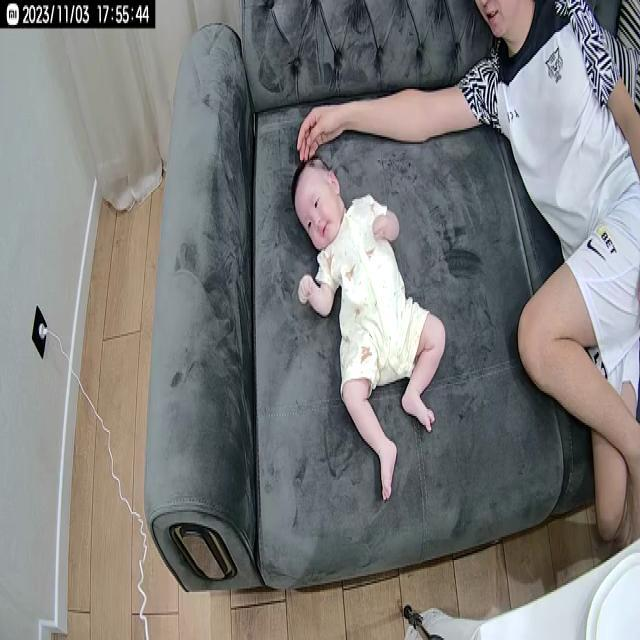baby: (290, 154, 446, 506)
